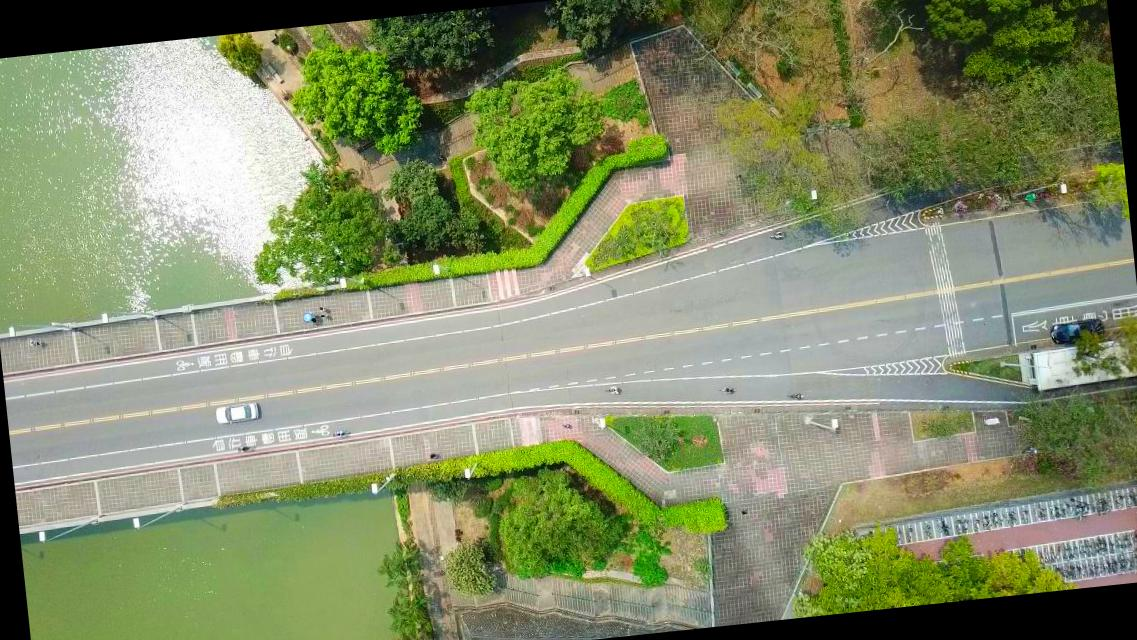vehicle: (1049, 317, 1106, 345), (214, 400, 260, 424)
